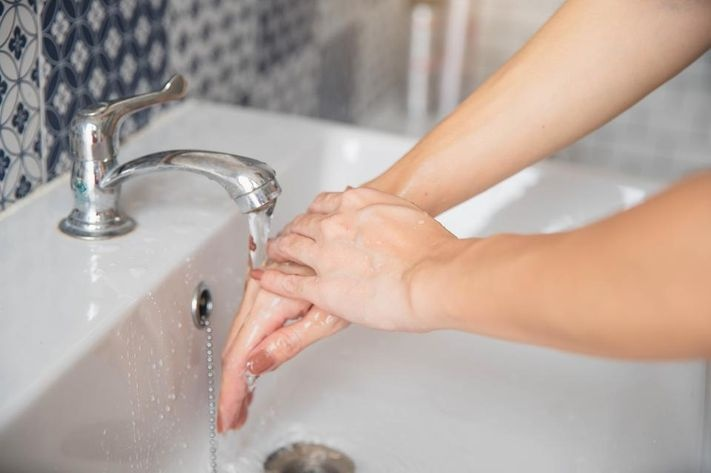washing hand: (60, 23, 535, 459)
